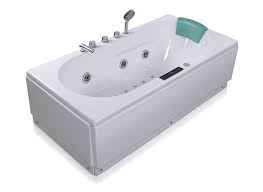bathub: (23, 7, 241, 180)
